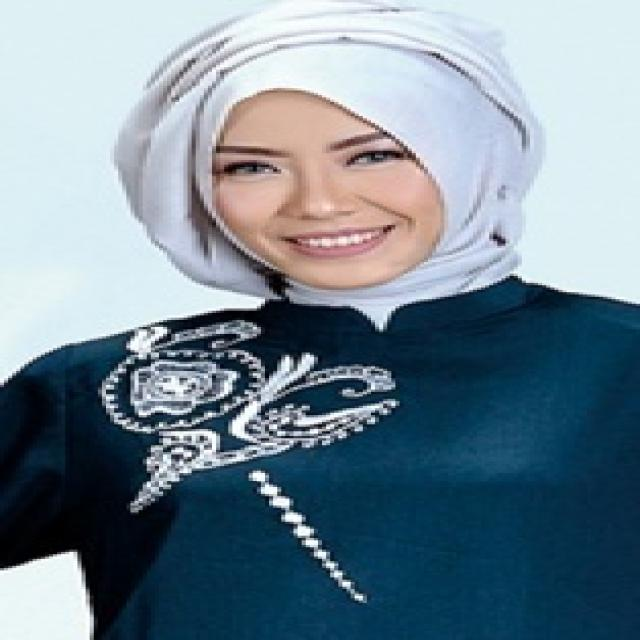head: (165, 40, 487, 294)
